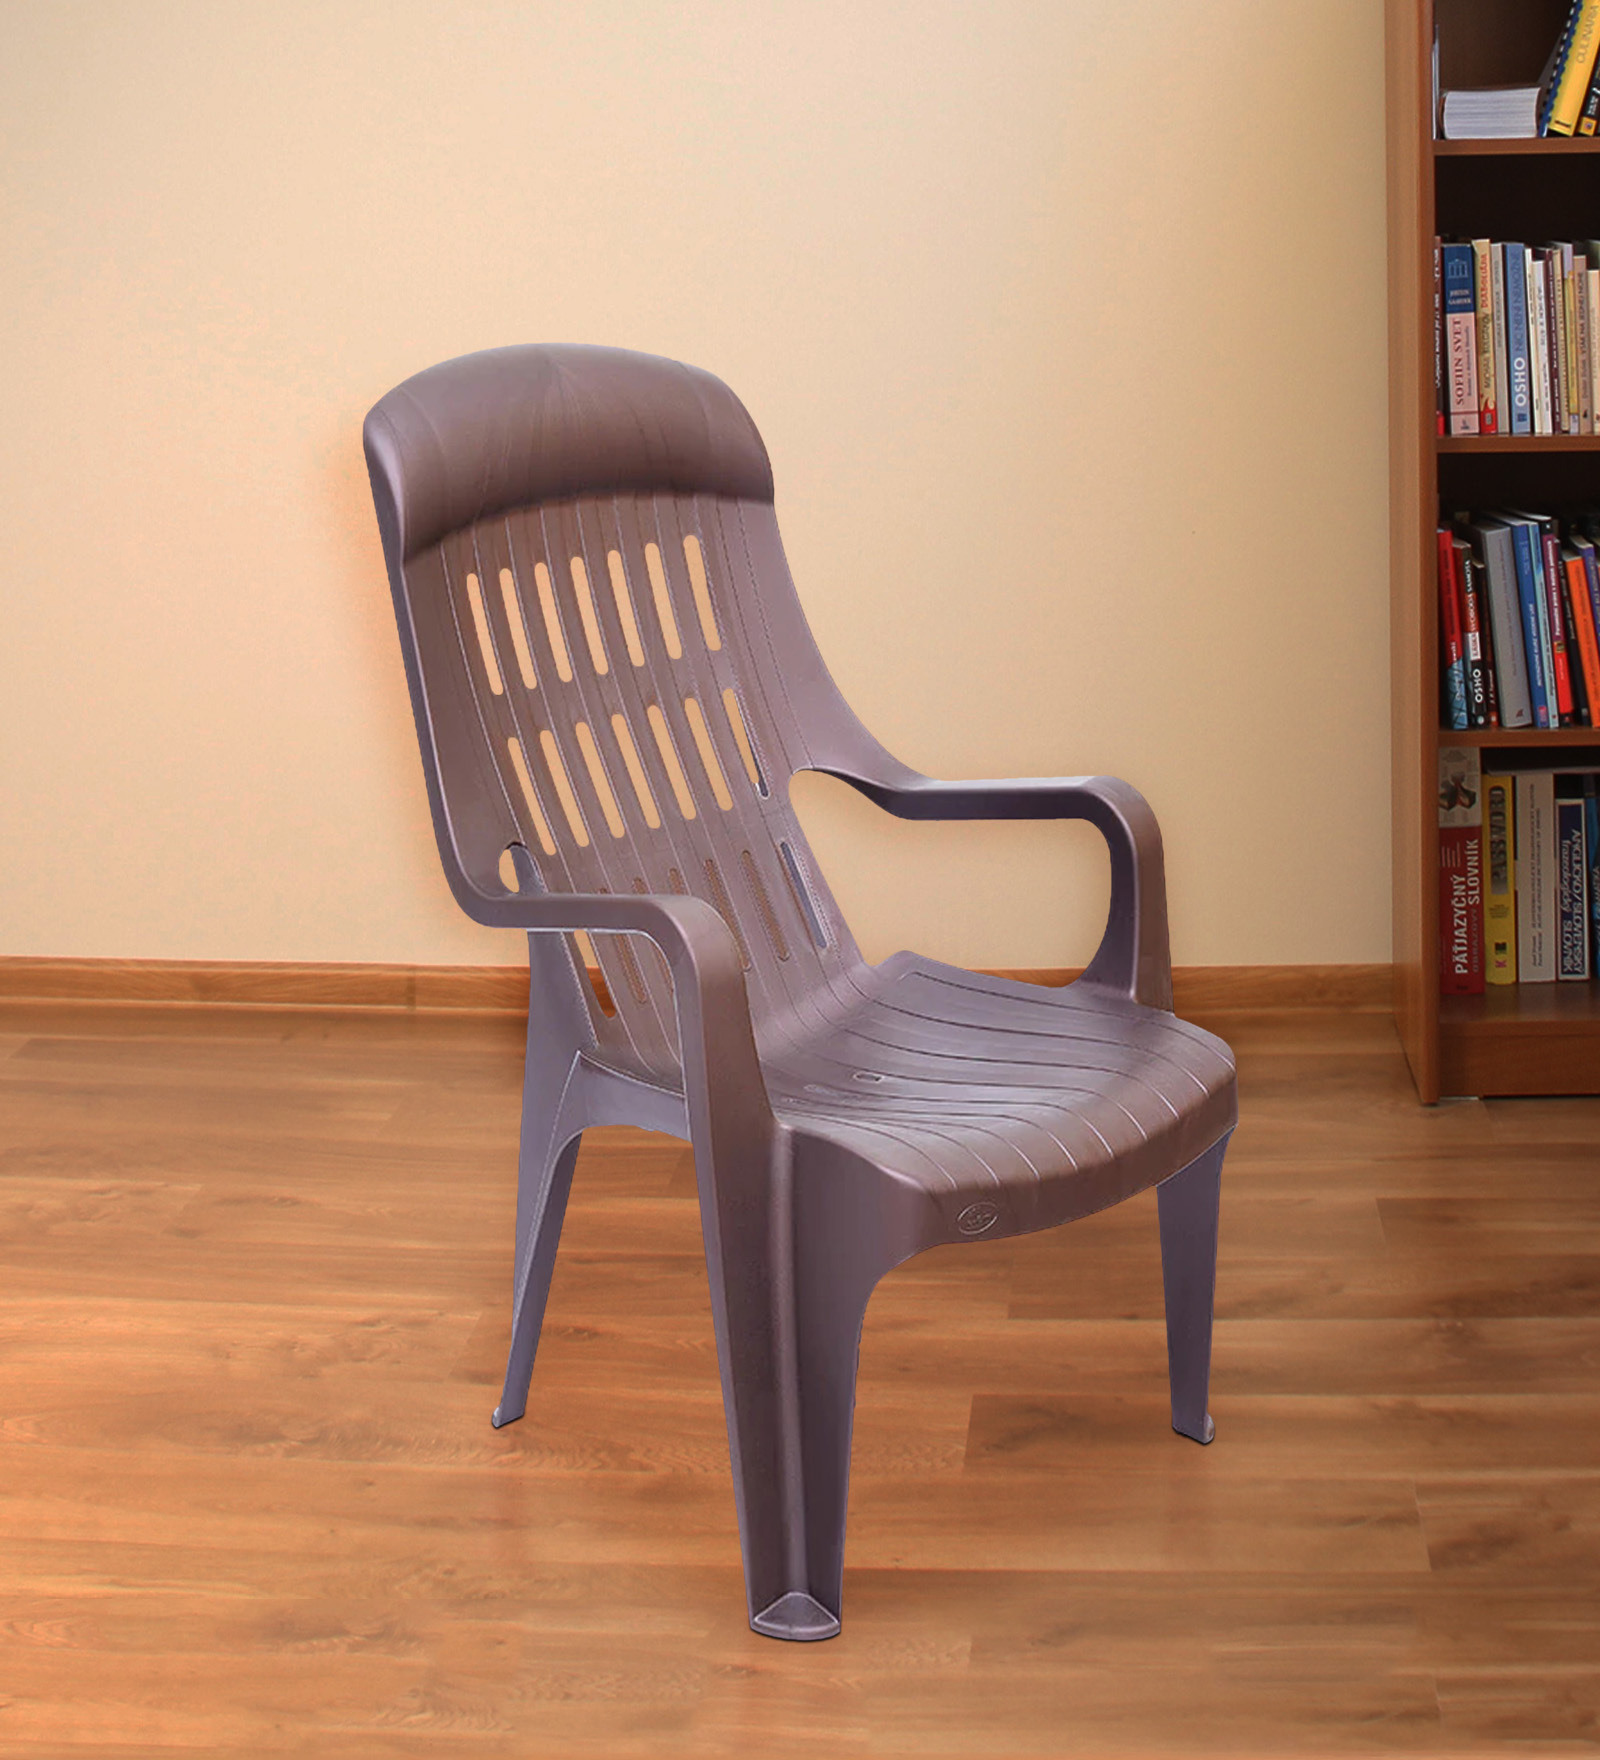Weekender Leisure Arm Chair in Brown Colour by Nilkamal: (261, 330, 1289, 1677)
